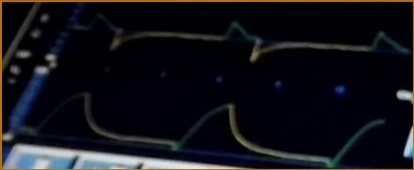Flow: (75, 8, 408, 64)
Leakage Volume: (21, 90, 382, 168)
